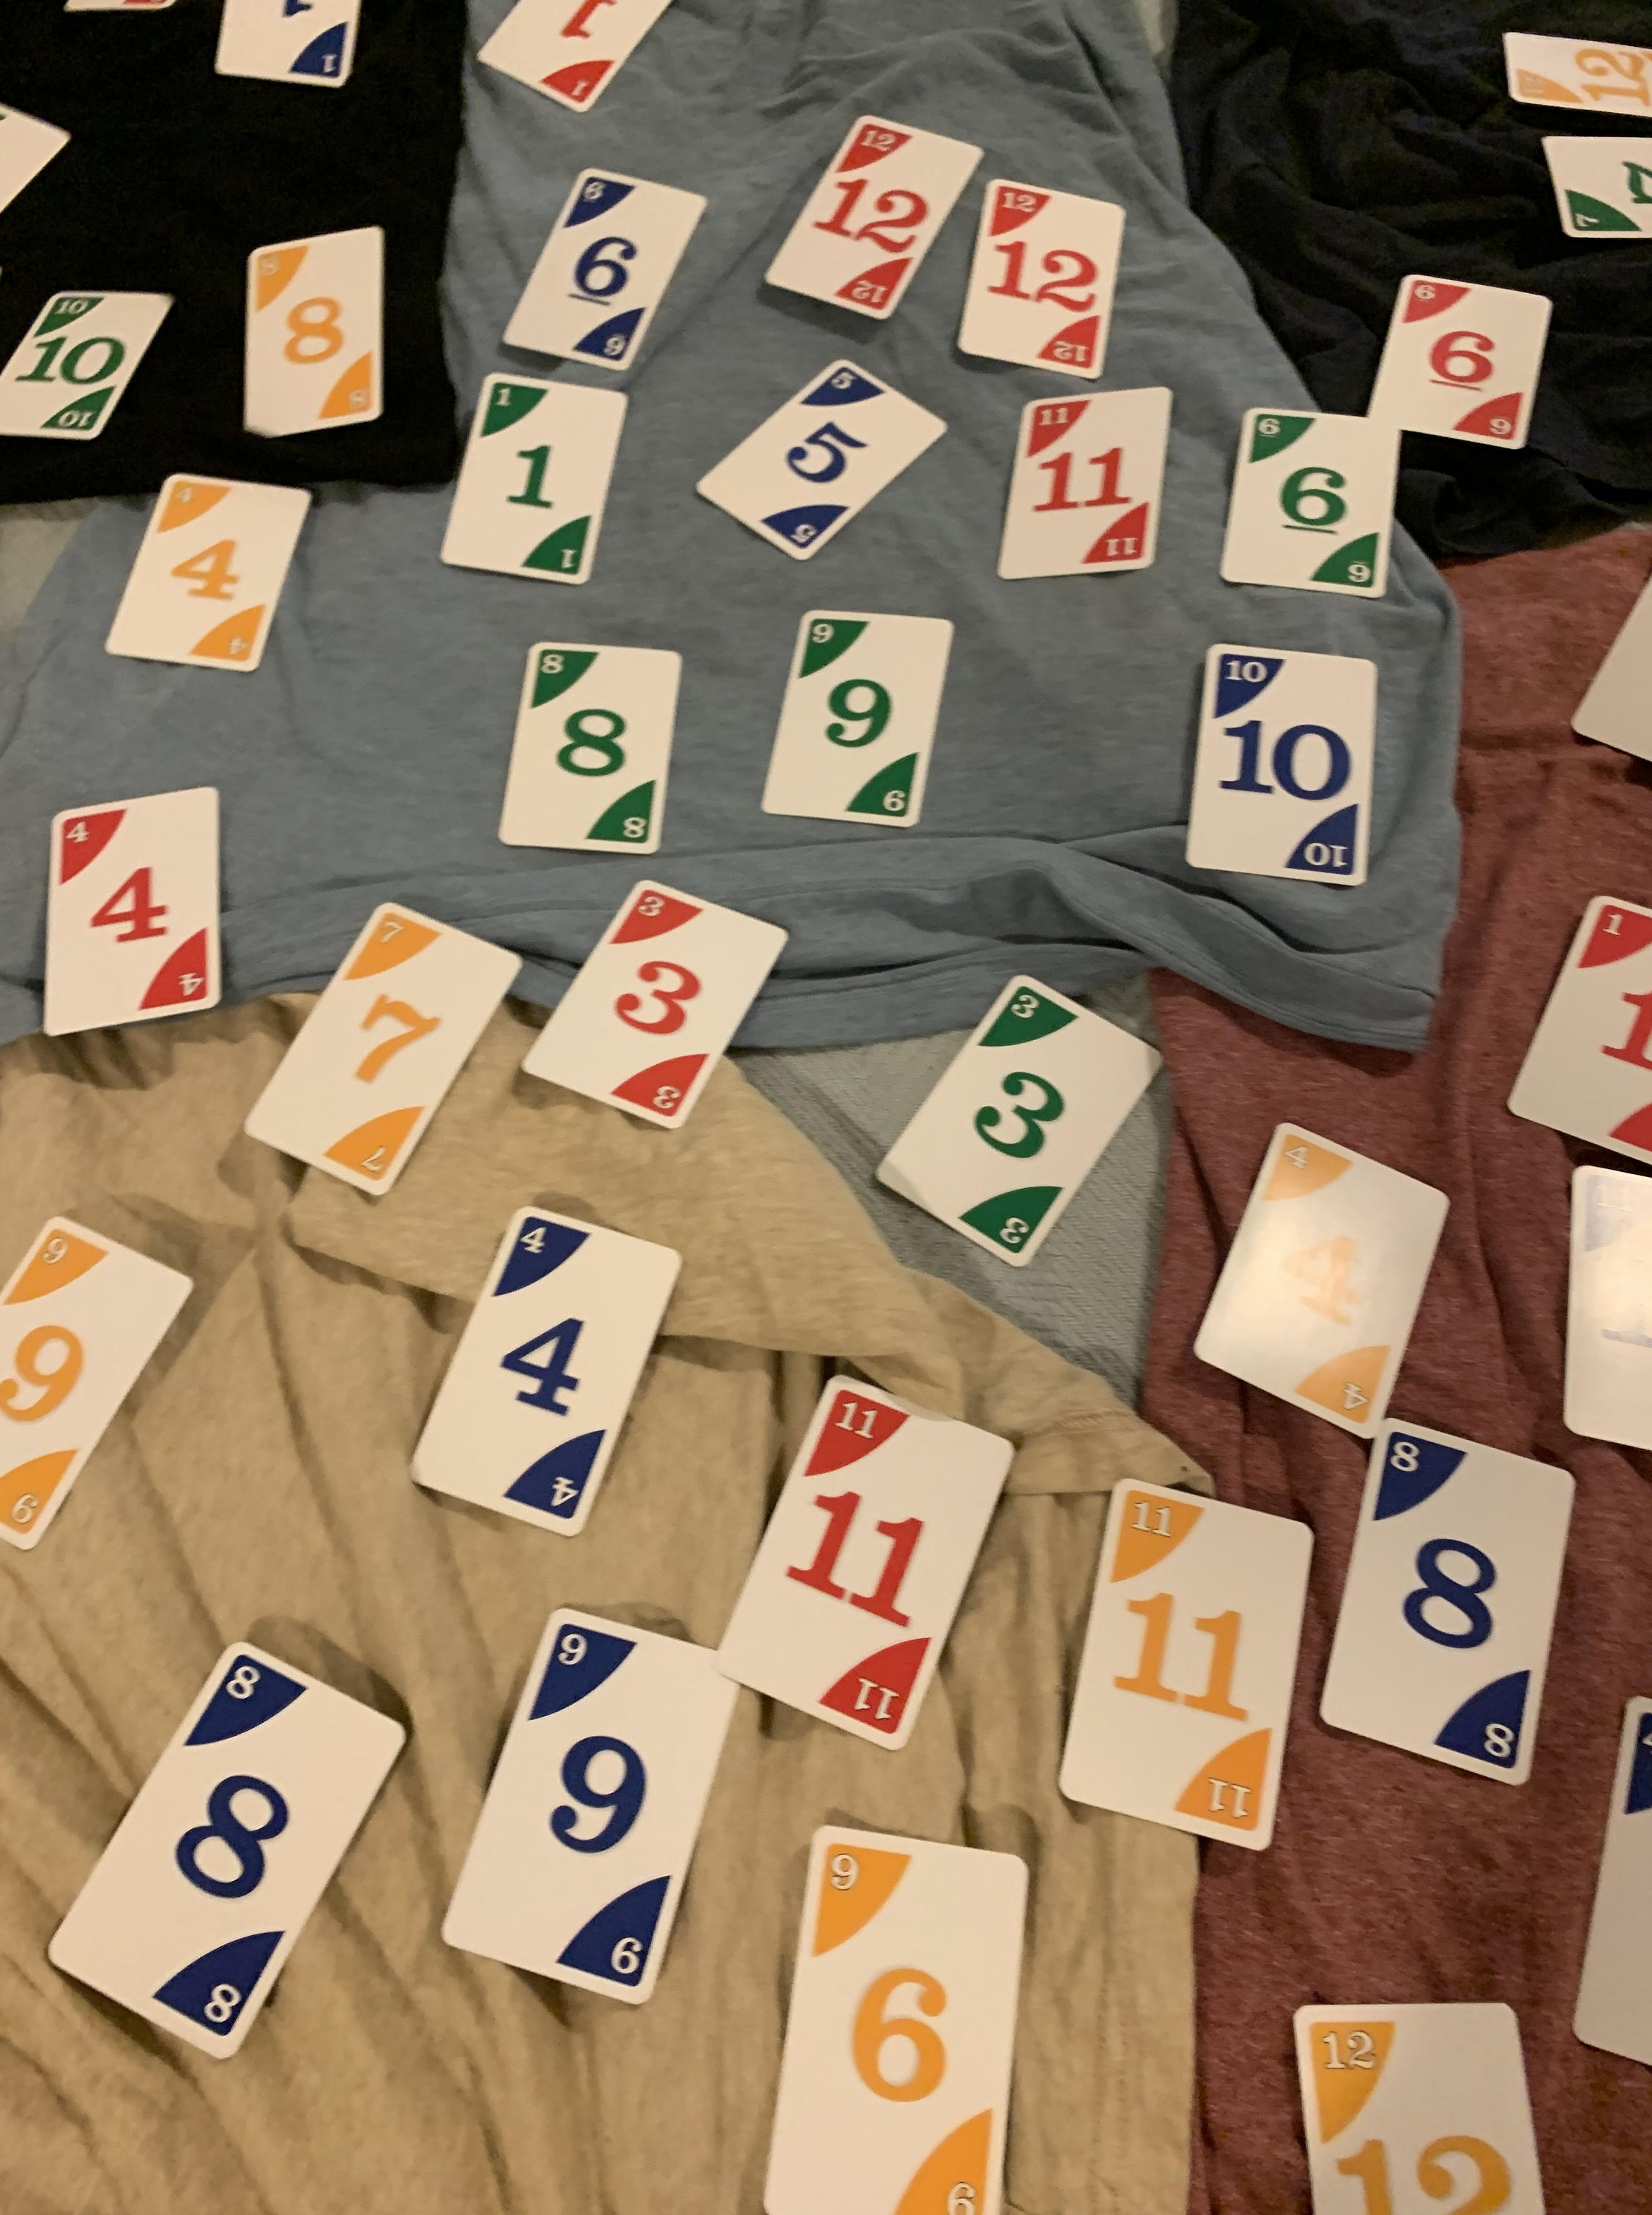eight: (227, 219, 392, 439)
eleven: (705, 1370, 1022, 1762), (1046, 1470, 1331, 1856)
four: (392, 1193, 678, 1540), (1177, 1111, 1454, 1443), (35, 779, 231, 1038), (85, 472, 312, 674)
nine: (429, 1606, 750, 2010), (0, 1206, 205, 1555), (753, 594, 965, 837)
one: (434, 361, 635, 587)
seven: (252, 894, 531, 1212)
six: (731, 1826, 1041, 2215), (496, 160, 708, 375), (1347, 262, 1555, 463), (1206, 392, 1402, 601)
ten: (1166, 632, 1385, 903)
three: (859, 962, 1159, 1260), (528, 877, 795, 1147)
twelve: (758, 115, 984, 337), (951, 177, 1140, 394)
